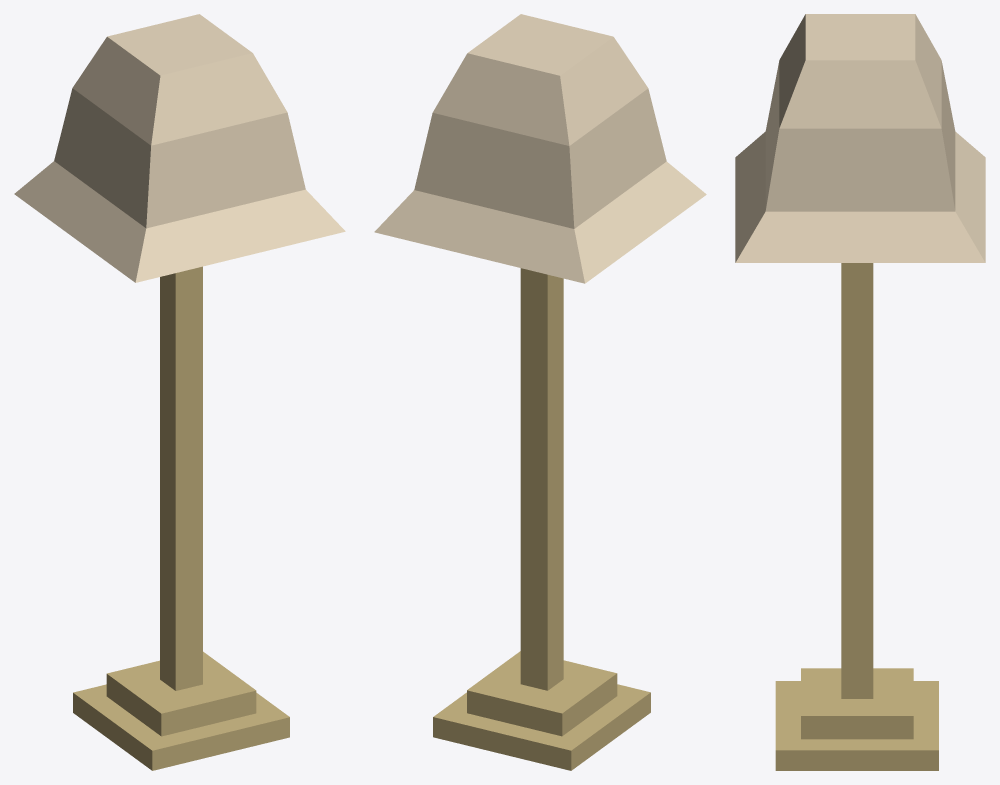
The model's file is lamp.fbx.
3 views of the same model, side by side, from view 1: azimuth 30°, elevation 25°; view 2: azimuth 150°, elevation 25°; view 3: azimuth 270°, elevation 25° (orthographic). The views are drawn at different scales.
Parts seen in each view (by area): view 1: Shade, Stand; view 2: Shade, Stand; view 3: Shade, Stand.
Part boxes in pixels (<box>): Shade: <box>14,14,345,282</box>; Stand: <box>73,266,289,770</box>; Shade: <box>374,14,706,283</box>; Stand: <box>433,268,650,770</box>; Shade: <box>735,14,985,262</box>; Stand: <box>775,263,938,770</box>.
Bounding box in the file's own units: 306 × 943 × 306.
